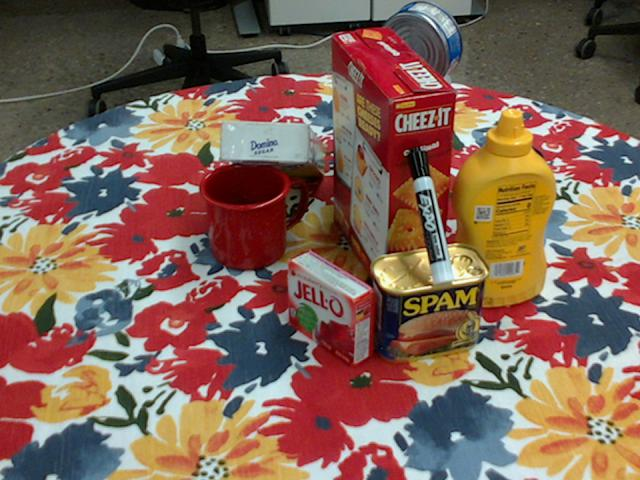cracker_box: (330, 29, 455, 300)
gelatin_box: (288, 248, 376, 365)
large_marker: (405, 146, 455, 284)
master_chef_can: (354, 61, 450, 213)
mug: (200, 161, 310, 269)
mustard_bottle: (445, 109, 556, 307)
potted_meat_can: (371, 243, 492, 363)
sugar_box: (221, 121, 325, 178)
tomato_soup_can: (469, 141, 543, 256)
tuna_fish_can: (377, 2, 461, 88)
